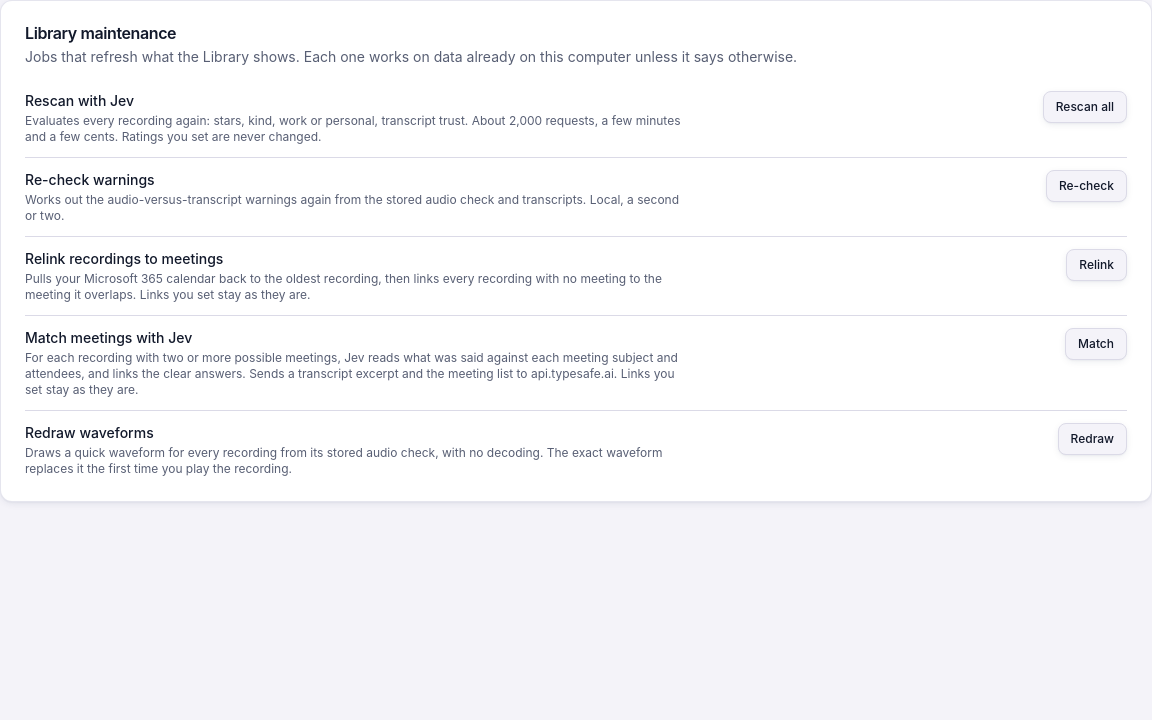
Test: LibraryMaintenanceCard › re-checks warnings and says how many changed
The image size is (1152, 720).
Click the button with aria-label "Re-check warnings": (1086, 186) [1046,170,1127,202]
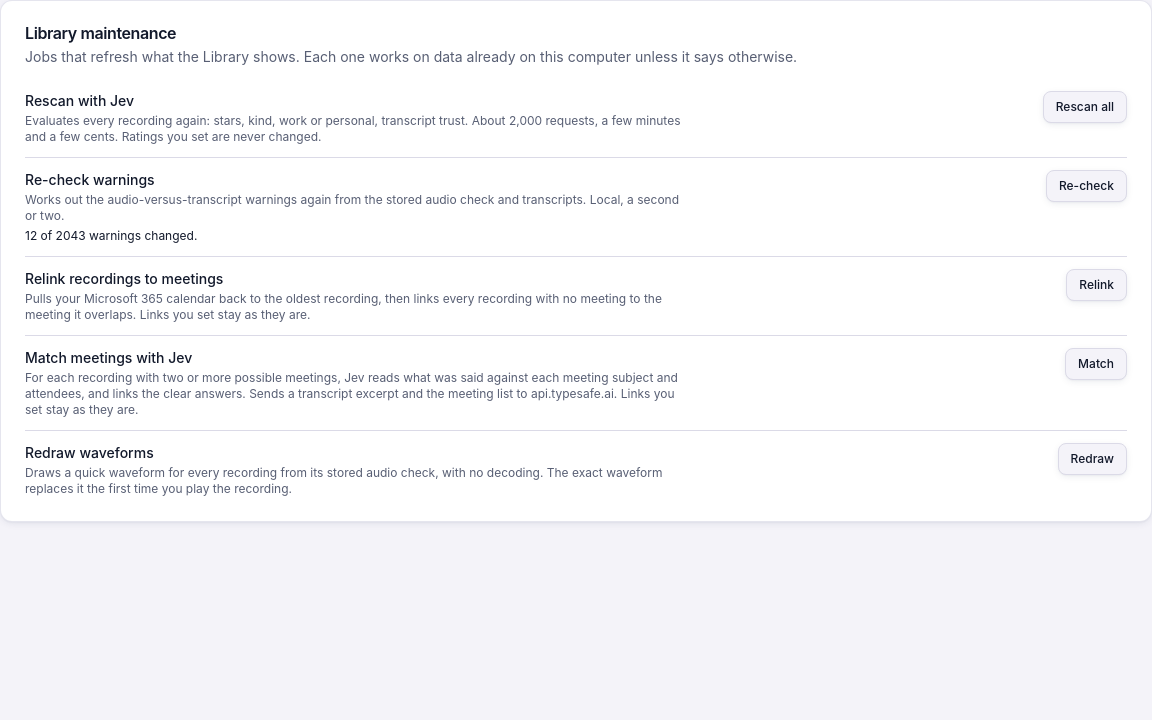
Now the text with test id "maintenance-result-warnings" reads "12 of 2043 warnings changed.", box [25,228,197,243]
